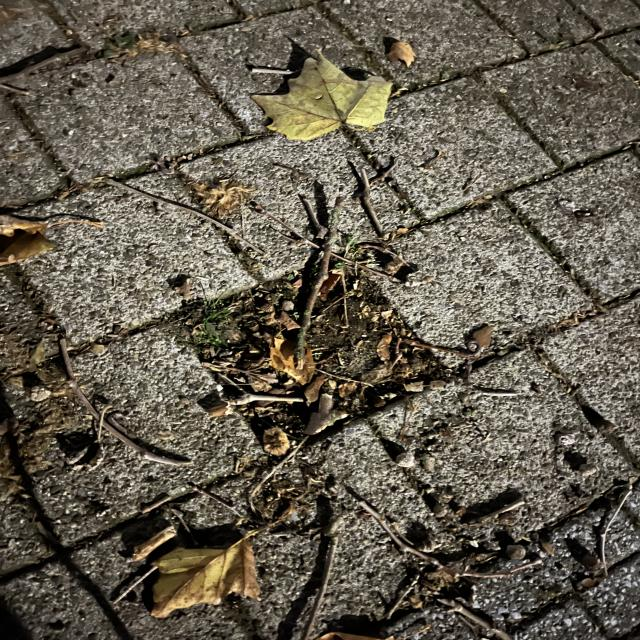leaves: (271, 56, 400, 146), (136, 530, 260, 619)
pavement: (461, 1, 640, 640), (6, 1, 248, 175), (266, 162, 506, 283), (39, 351, 232, 500), (58, 246, 190, 339)
